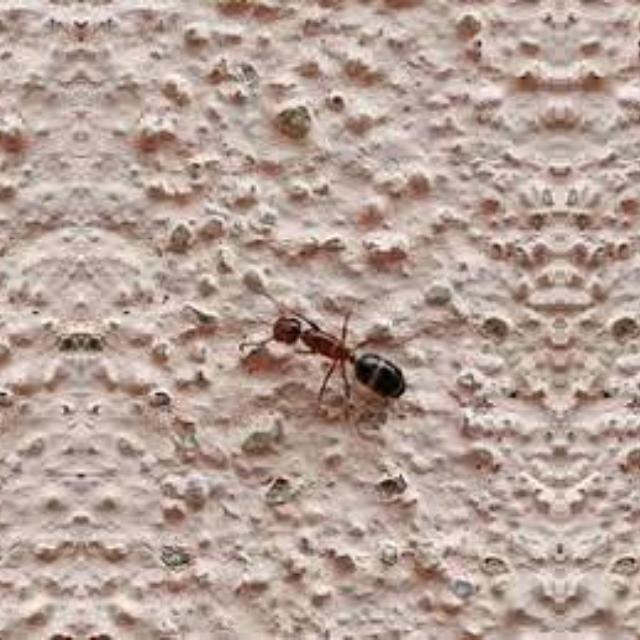Colobopsis: (258, 292, 422, 430)
